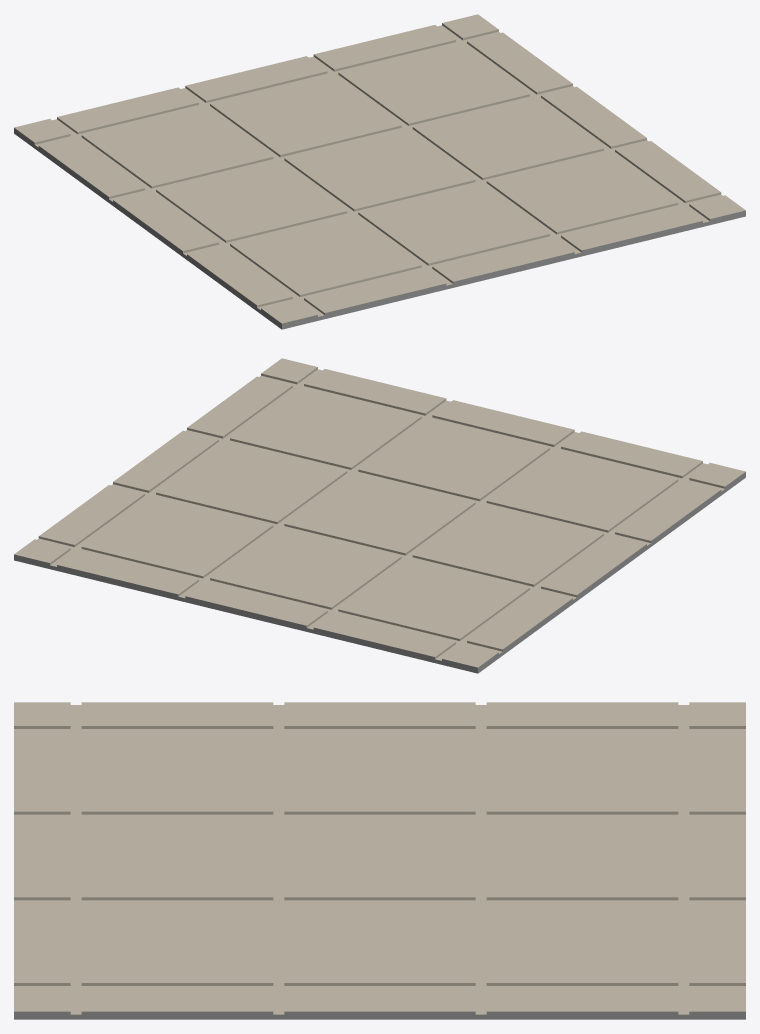
File: sidewalk.glb
The picture shows the model from 3 angles, top to bottom: view 1: azimuth 30°, elevation 25°; view 2: azimuth 150°, elevation 25°; view 3: azimuth 270°, elevation 25°; orthographic projection. The views are drawn at different scales.
Visible parts, largest first — view 1: sidewalk; view 2: sidewalk; view 3: sidewalk.
Part boxes in pixels (bbox=[...]): sidewalk: bbox=[14, 14, 745, 329]; sidewalk: bbox=[14, 358, 745, 673]; sidewalk: bbox=[14, 702, 745, 1019].
Bounding box in the file's own units: 4 × 0.05 × 4.
